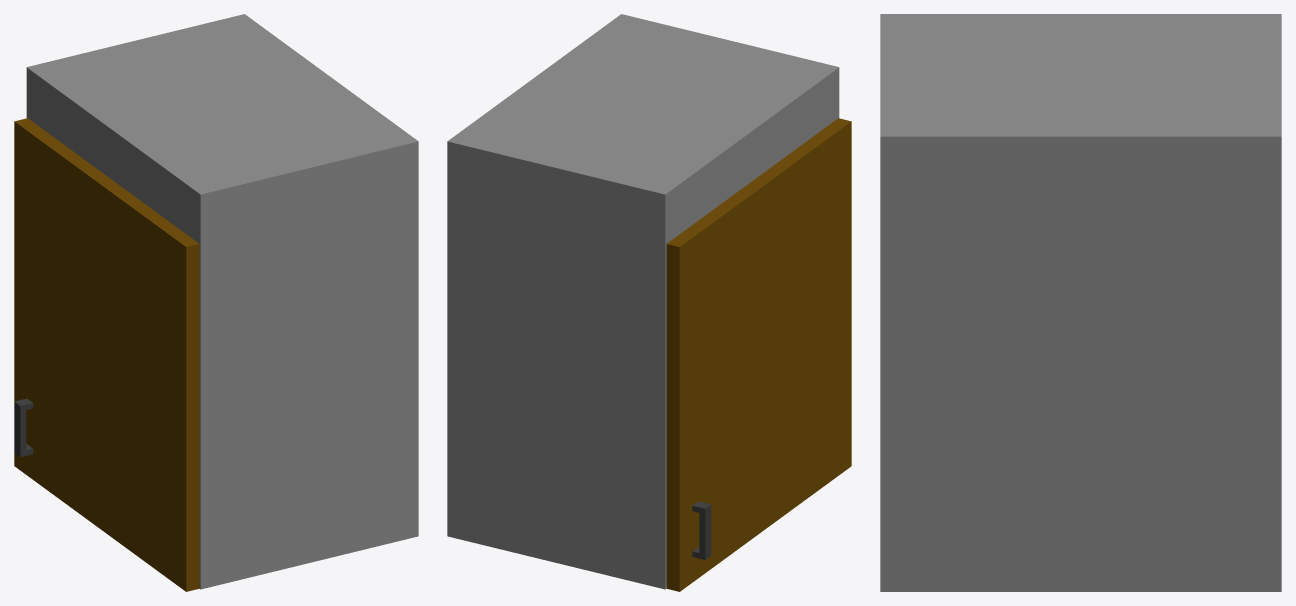
File: KitchenOverheadRight.fbx
The picture shows the model from 3 angles, left to right: view 1: azimuth 30°, elevation 25°; view 2: azimuth 150°, elevation 25°; view 3: azimuth 270°, elevation 25°; orthographic projection. The views are drawn at different scales.
Visible parts, largest first — view 1: pCube16, pCube17; view 2: pCube16, pCube17; view 3: pCube16.
Boxes of the visible parts, <box> form: pCube16: <box>14,14,418,591</box>; pCube17: <box>14,398,33,457</box>; pCube16: <box>447,14,851,591</box>; pCube17: <box>692,501,711,559</box>; pCube16: <box>880,14,1281,591</box>.
Size of the model in its own units: 0.8097 by 1.25 by 1.
